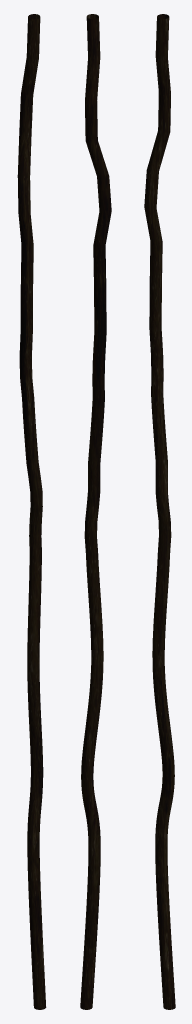
Rendered from Cable01.fbx.
3 views of the same model, side by side, from view 1: azimuth 30°, elevation 25°; view 2: azimuth 150°, elevation 25°; view 3: azimuth 330°, elevation 25° (orthographic).
Visible parts, largest first — view 1: Plane (17); view 2: Plane (17); view 3: Plane (17).
Part boxes in pixels (box(x1,y1,x2,y2)): Plane (17): box(17, 14, 46, 1009); Plane (17): box(80, 14, 111, 1009); Plane (17): box(144, 14, 175, 1009).
Size of the model in its own units: 20.91 by 708 by 16.82.
